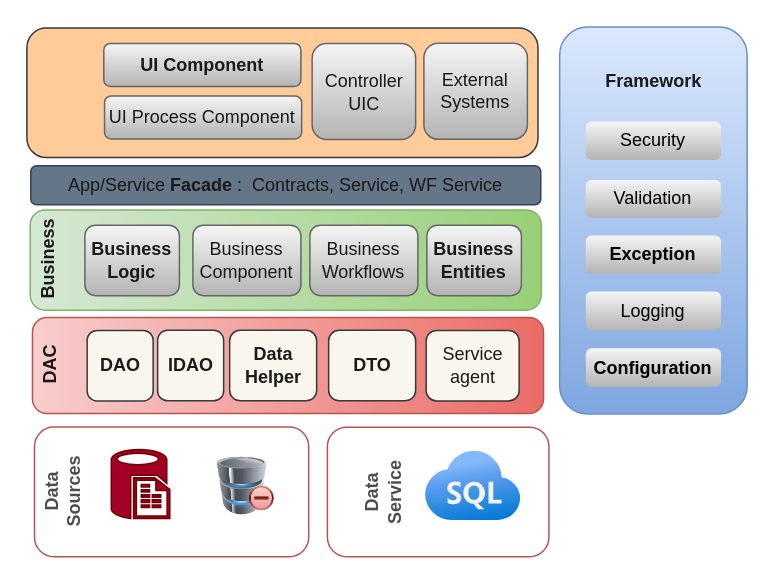
This 774x584 diagram has some shape labels left out. The centre of each missing label's shape, as x and y in pixels:
database: point 245,485
SQLITE: point 140,483
User Interface: point 282,92
